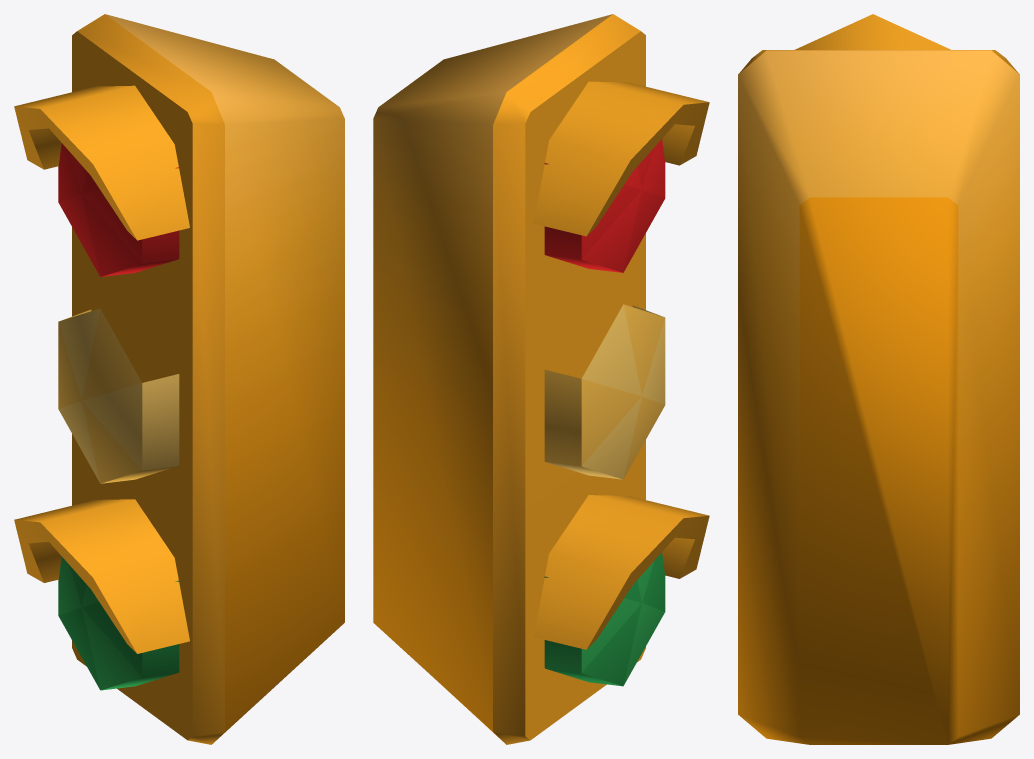
The model's file is Lights_1_1.fbx.
3 views of the same model, side by side, from view 1: azimuth 30°, elevation 25°; view 2: azimuth 150°, elevation 25°; view 3: azimuth 270°, elevation 25° (orthographic). The views are drawn at different scales.
Visible parts, largest first — view 1: Lights_1_1; view 2: Lights_1_1; view 3: Lights_1_1.
Boxes of the visible parts, box(x1,y1,x2,y2) form: Lights_1_1: box(14, 14, 344, 744); Lights_1_1: box(373, 14, 709, 744); Lights_1_1: box(738, 14, 1019, 744).
Bounding box in the file's own units: 38.49 × 89 × 33.02.
